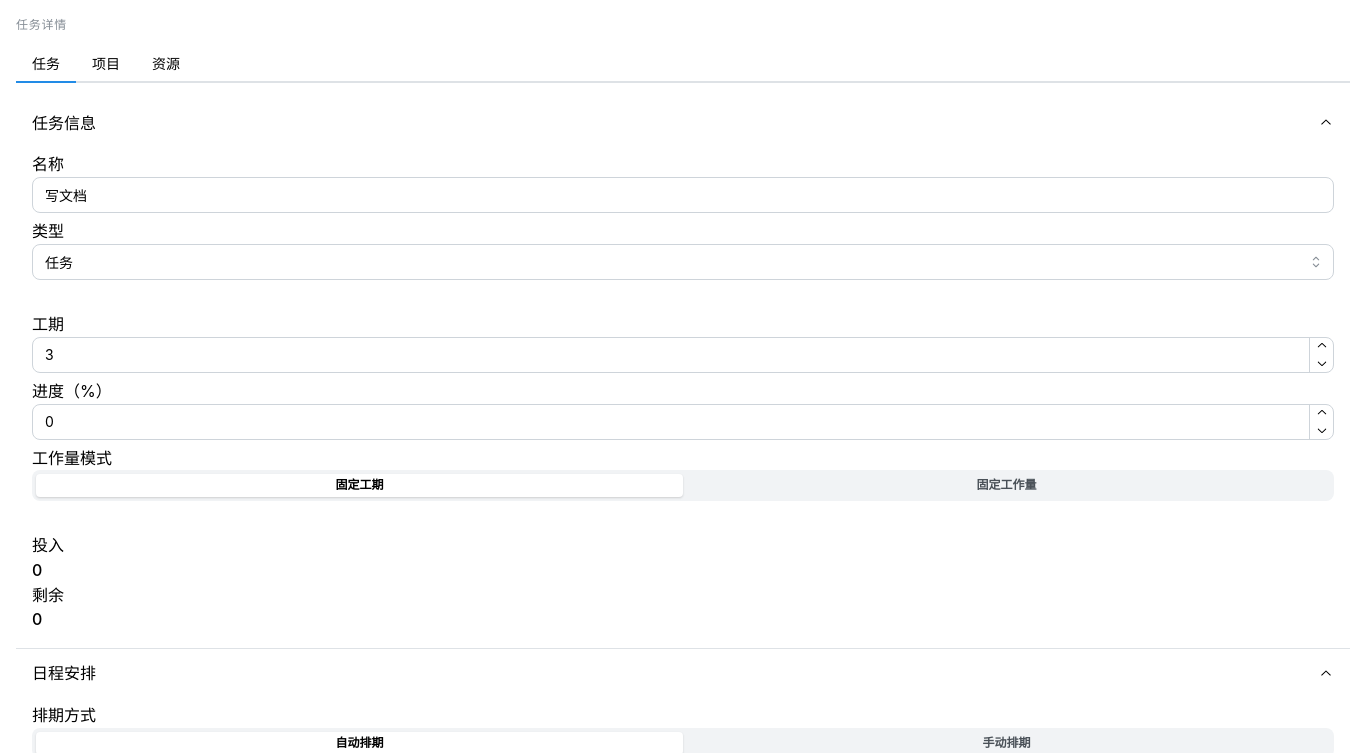
it: Inspector 外壳（Tabs） › 选着任务时能手动切到「项目」Tab
This screenshot has width=1366, height=753.
Step 1. Click the tab "项目" → [106, 65], box x1=76 y1=47 x2=136 y2=83
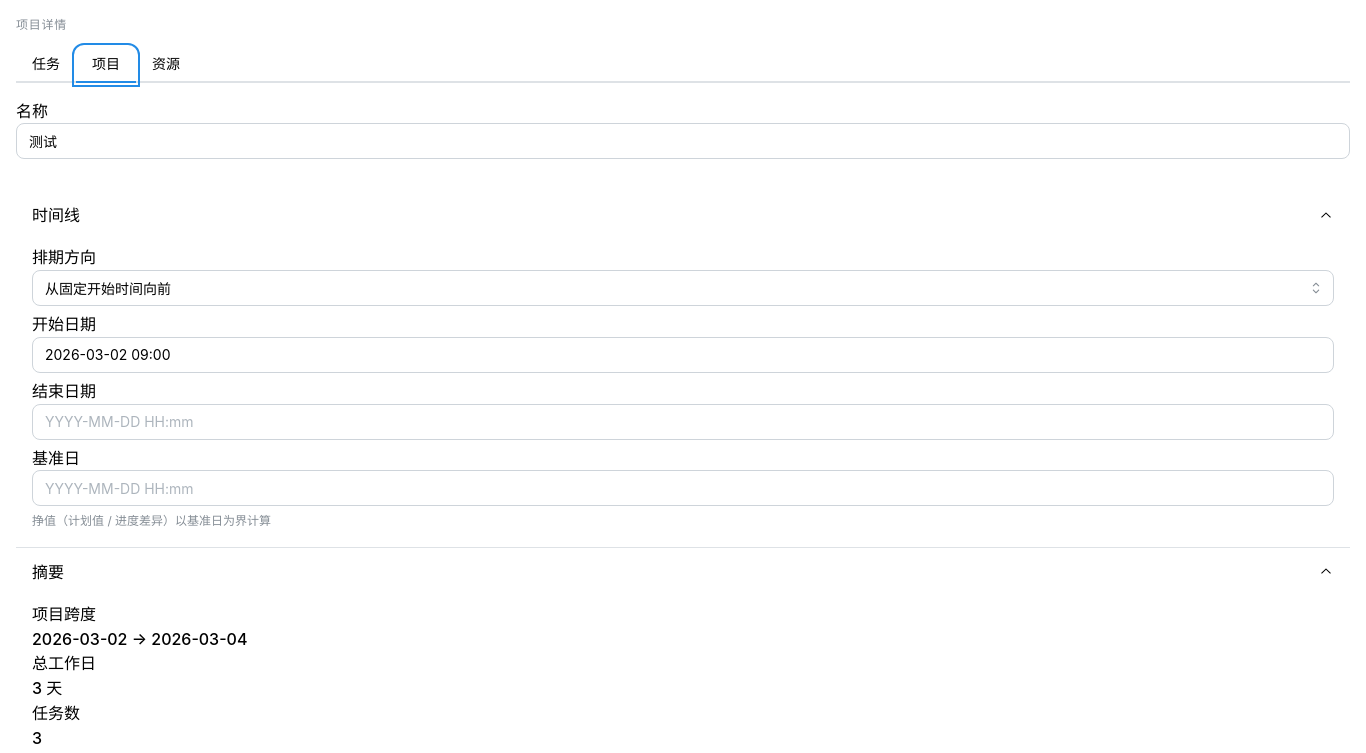
Check: the field showing "写文档" is not shown
Check: the field labelled "名称" holds "测试", box x1=16 y1=123 x2=1350 y2=159
